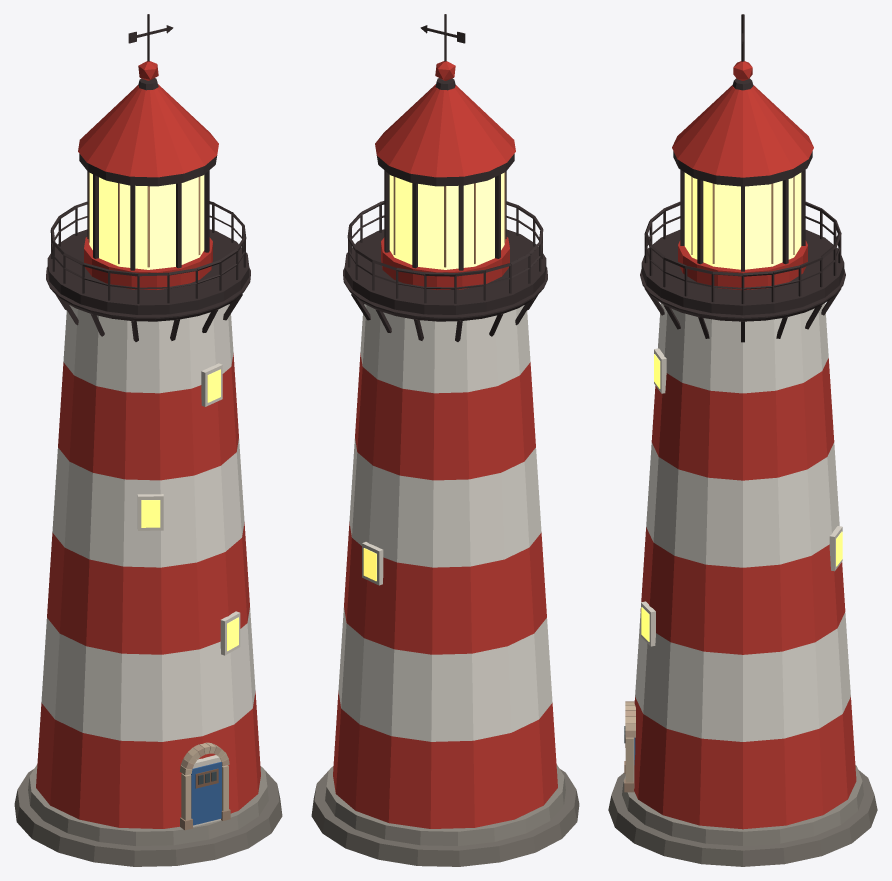
The model's file is lighthouse.glb.
3 views of the same model, side by side, from view 1: azimuth 30°, elevation 25°; view 2: azimuth 150°, elevation 25°; view 3: azimuth 270°, elevation 25° (orthographic).
Visible parts, largest first — view 1: lighthouse, Keeper_arch_and_gallery_brackets; view 2: lighthouse, Keeper_arch_and_gallery_brackets; view 3: lighthouse, Keeper_arch_and_gallery_brackets.
Part boxes in pixels (x1,y1,x2,y2): lighthouse: (14, 14, 282, 866); Keeper_arch_and_gallery_brackets: (46, 172, 250, 830); lighthouse: (311, 14, 579, 866); Keeper_arch_and_gallery_brackets: (343, 172, 547, 341); lighthouse: (608, 14, 877, 866); Keeper_arch_and_gallery_brackets: (624, 177, 845, 792).
Bounding box in the file's own units: 8.9 × 29 × 8.9.
